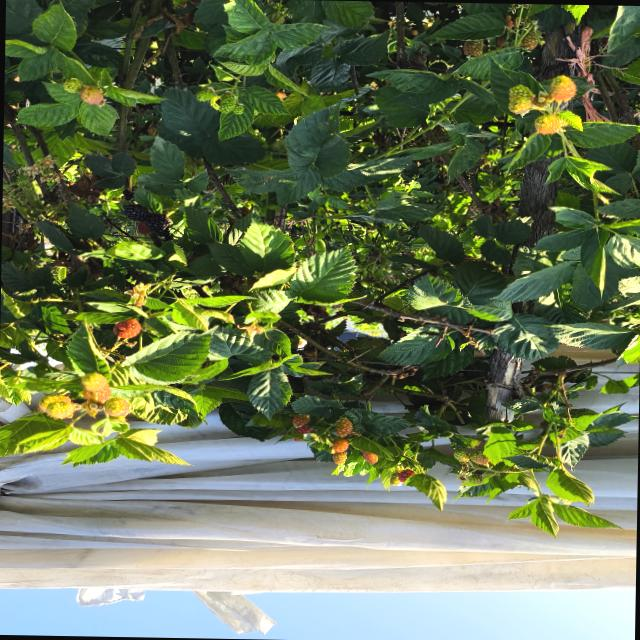maduro: (144, 213, 170, 238), (122, 204, 150, 221)
naranja: (113, 318, 141, 338), (82, 385, 111, 402), (80, 86, 104, 106), (334, 418, 352, 437), (332, 438, 349, 452), (360, 451, 378, 463), (398, 469, 414, 482), (292, 414, 309, 426), (137, 221, 152, 234), (332, 452, 347, 464), (294, 425, 311, 433)
verde: (508, 84, 534, 115), (550, 75, 576, 102), (534, 114, 567, 134), (453, 449, 489, 465), (38, 394, 71, 411), (46, 401, 74, 419), (104, 397, 129, 417), (81, 372, 107, 391), (519, 27, 539, 50), (219, 92, 237, 113), (463, 40, 483, 57), (63, 77, 82, 93), (195, 88, 215, 101), (389, 472, 402, 486), (467, 473, 482, 485), (231, 103, 243, 114)
